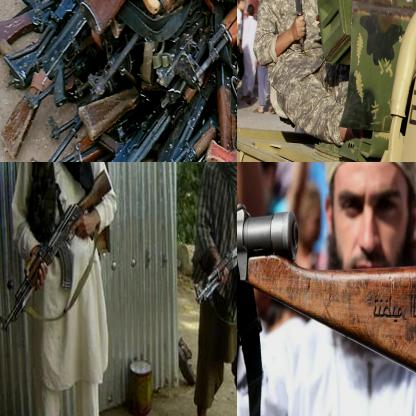knife: (280, 0, 308, 50)
rifle: (237, 201, 415, 406), (0, 166, 113, 333), (6, 18, 82, 161), (56, 96, 176, 161), (107, 96, 199, 161), (187, 0, 236, 86), (203, 39, 236, 161), (0, 0, 58, 66), (194, 231, 236, 308), (41, 0, 106, 22)
